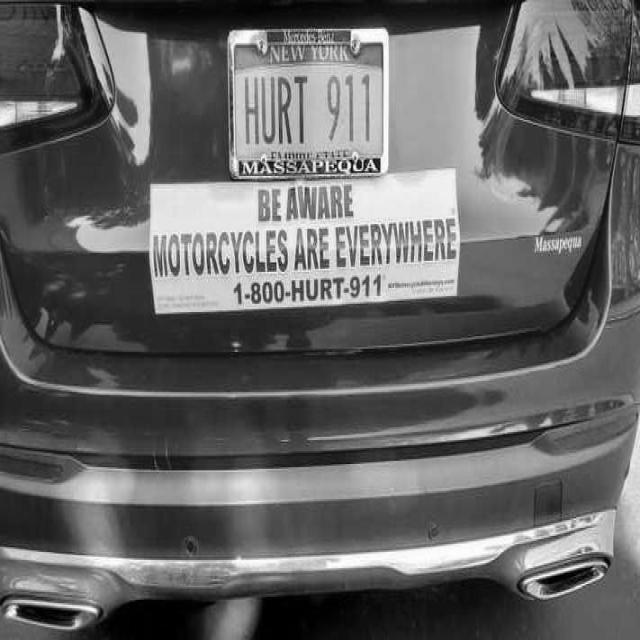plate: (228, 29, 389, 176)
